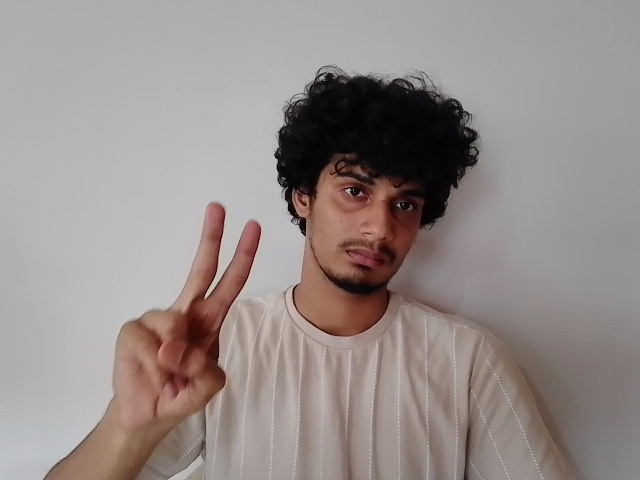travel: (111, 197, 274, 428)
